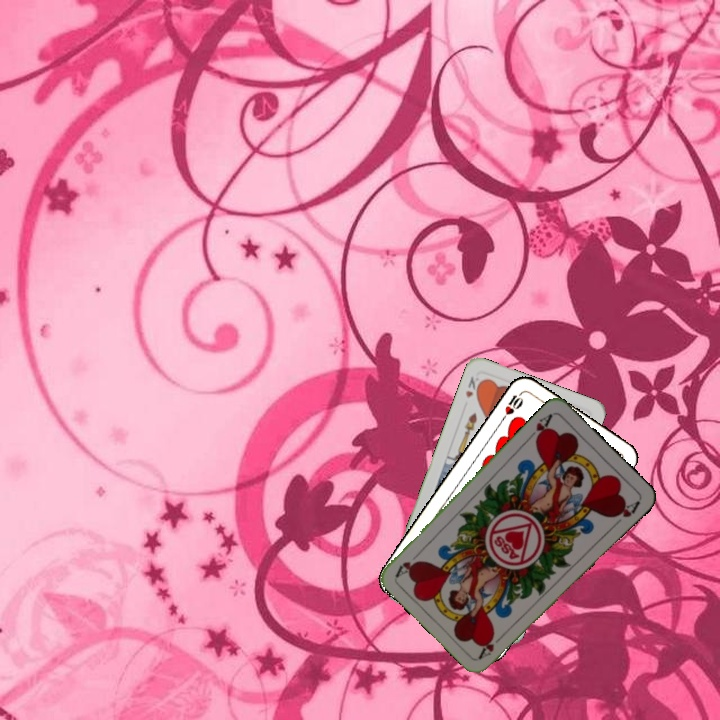H10: (497, 388, 526, 424)
HA: (524, 409, 555, 445), (475, 628, 508, 661)
HK: (461, 372, 485, 401)
